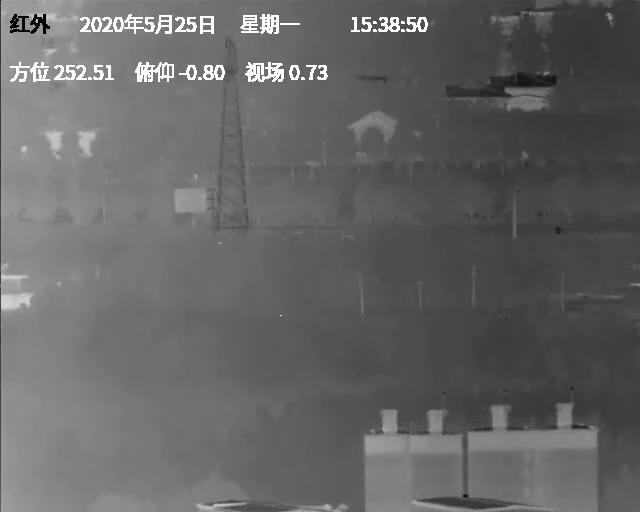uav: (216, 240, 224, 247)
